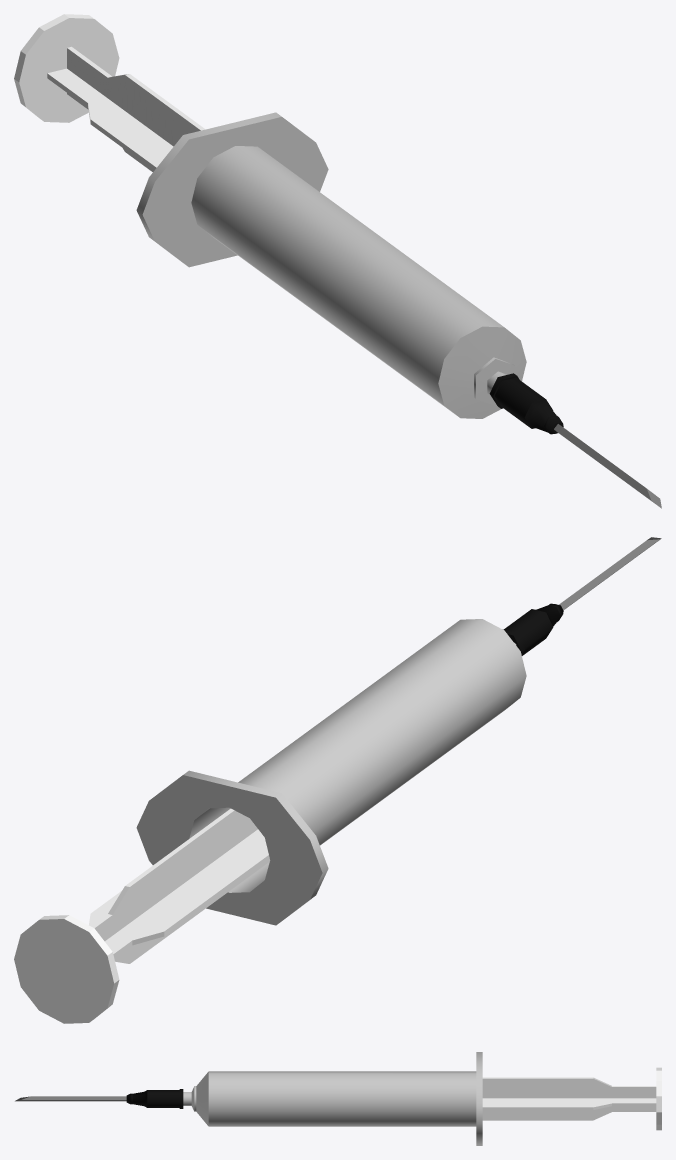
Rendered from Syringe.fbx.
3 renders of one model, top to bottom at view 1: azimuth 30°, elevation 25°; view 2: azimuth 150°, elevation 25°; view 3: azimuth 270°, elevation 25°, orthographic. The views are drawn at different scales.
Parts seen in each view (by area): view 1: syringe; view 2: syringe; view 3: syringe.
Part boxes in pixels (x1=…): syringe: x1=14, y1=14, x2=661, y2=508; syringe: x1=14, y1=537, x2=661, y2=1023; syringe: x1=15, y1=1052, x2=661, y2=1145.
Size of the model in its own units: 2.99 by 1.96 by 16.64.
